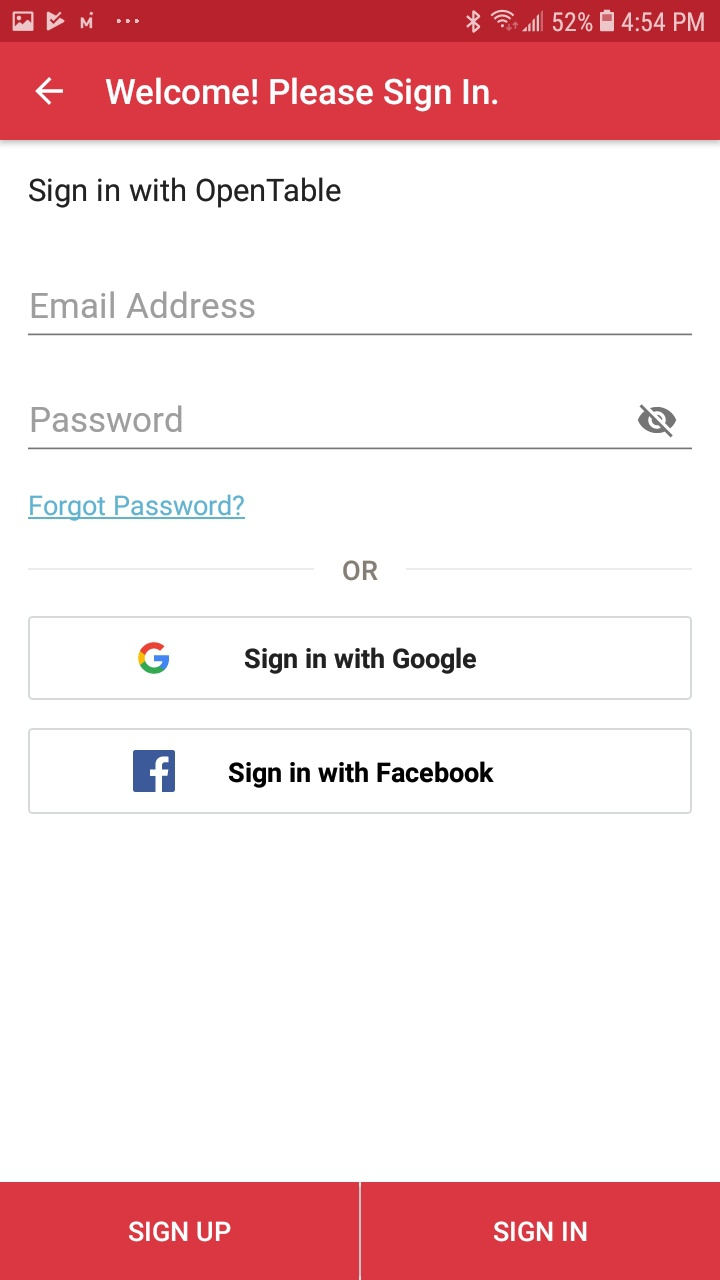EditText: (28, 404, 693, 451), (28, 291, 693, 337)
Icon: (637, 404, 677, 439), (35, 77, 64, 107)
Text: (106, 78, 498, 113), (29, 177, 342, 209), (32, 292, 256, 320), (29, 494, 246, 522), (32, 405, 184, 434), (343, 560, 379, 582)
TextButton: (29, 728, 692, 815), (29, 616, 692, 701), (1, 1182, 360, 1280), (361, 1182, 720, 1280)
UpperTaskBar: (1, 1, 720, 43)
